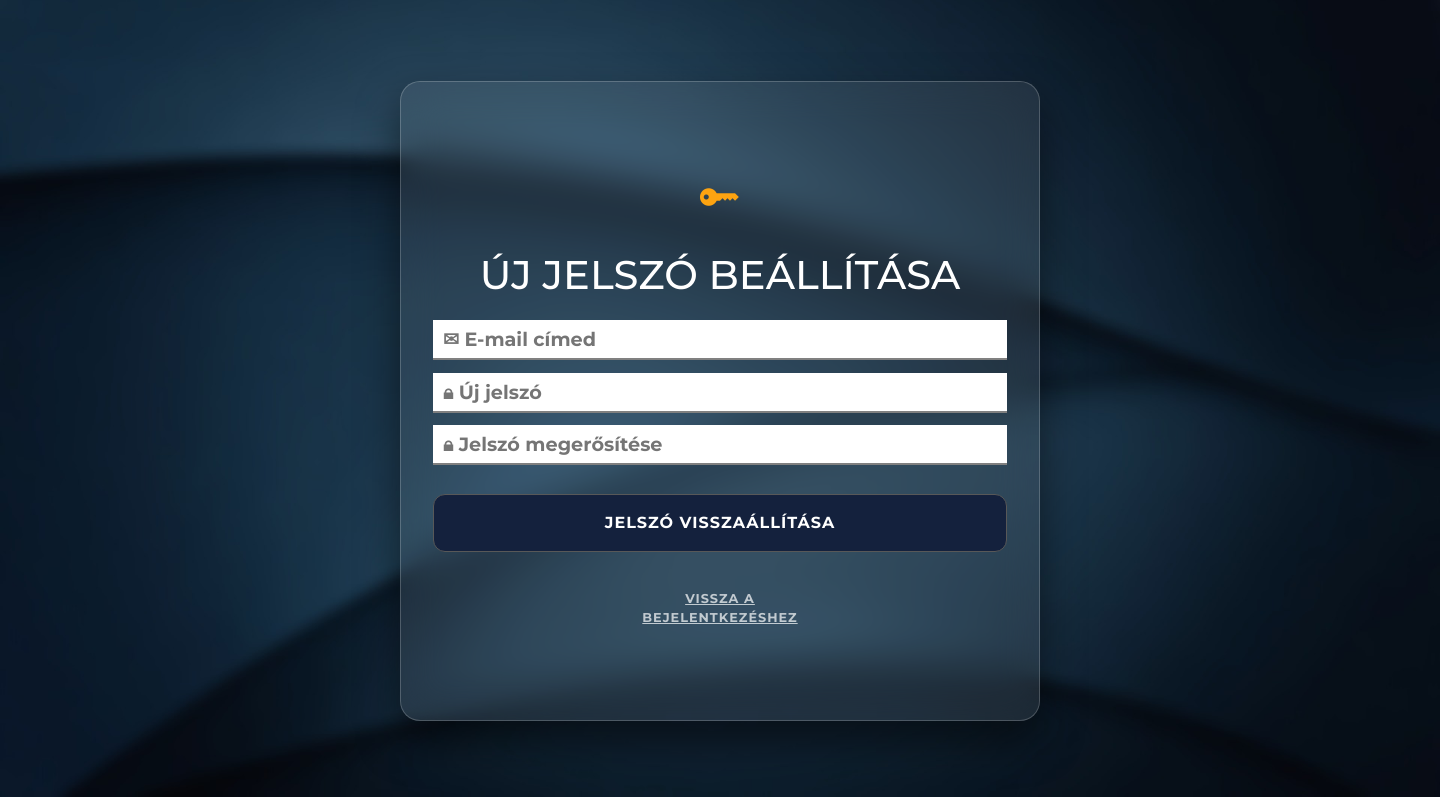
Test: StudentResetComp – Jelszó visszaállítás › megjelenik a jelszó erősség jelző
(page scrolled)
Step 1. Type "gyenge" into the password field with placeholder "🔒︎ Új jelszó" → {"x": 720, "y": 393}, box [433,373,1007,413]
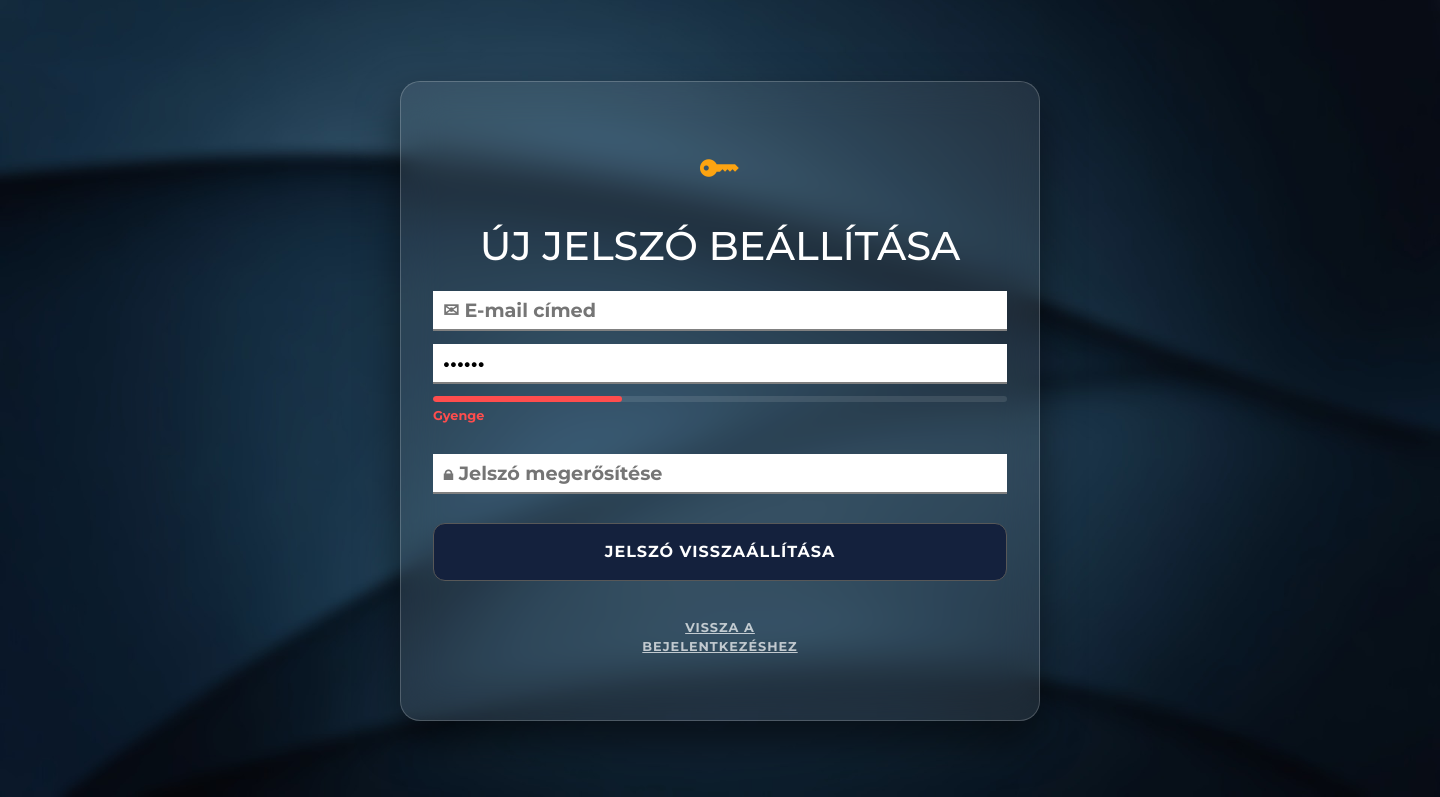
Now the text "Gyenge" is shown, box [433,408,484,423]
